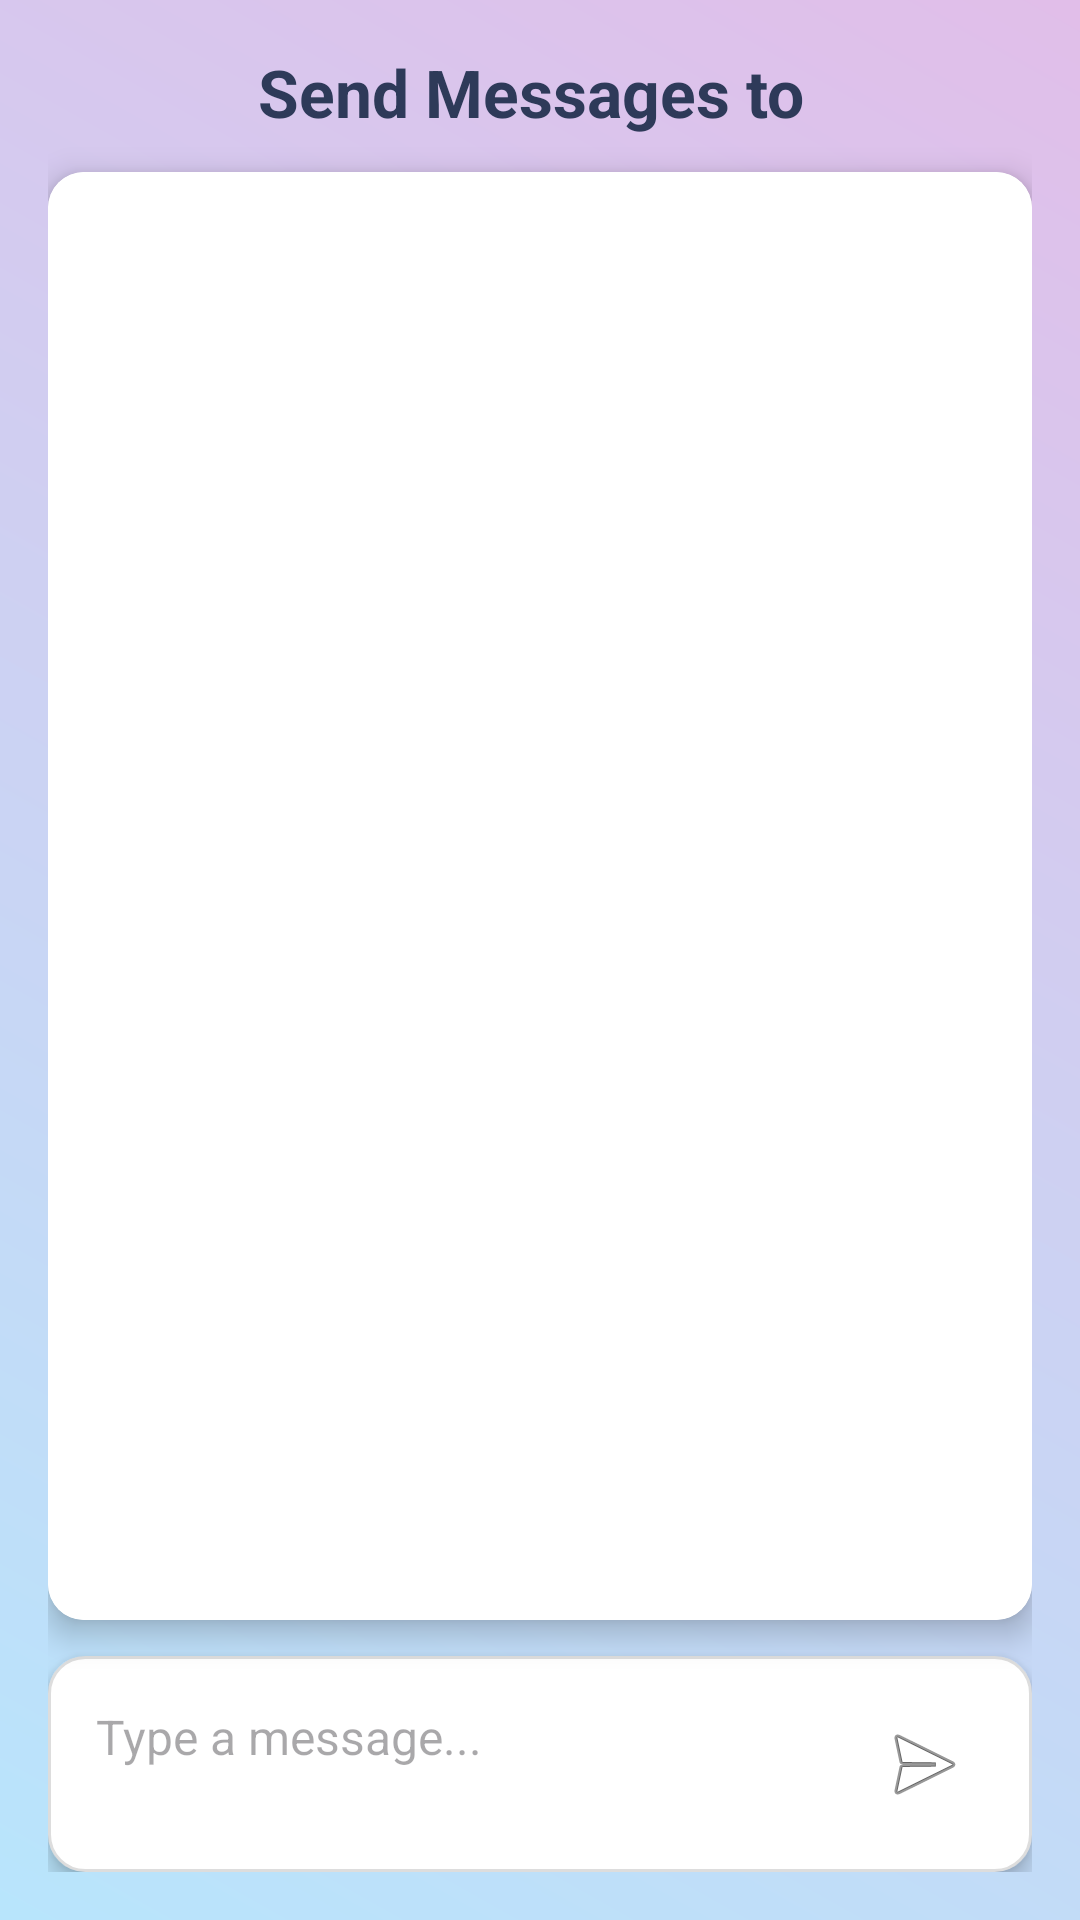

Where to tap for icons on this 1080w x 1920h app screen, as [x,y]:
Send: [925,1764]
